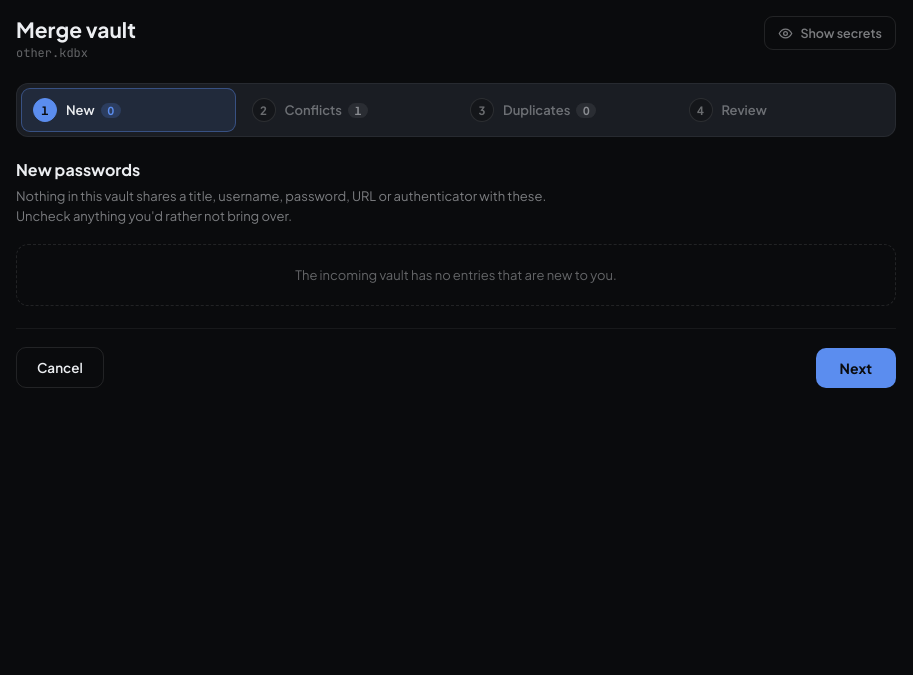
Test: MergeWizardScreen › step 2 — conflicts › says 'difference' in the singular for a single differing field
Click the button "2 Conflicts 1". click: (347, 110)
box: [240,88,454,132]
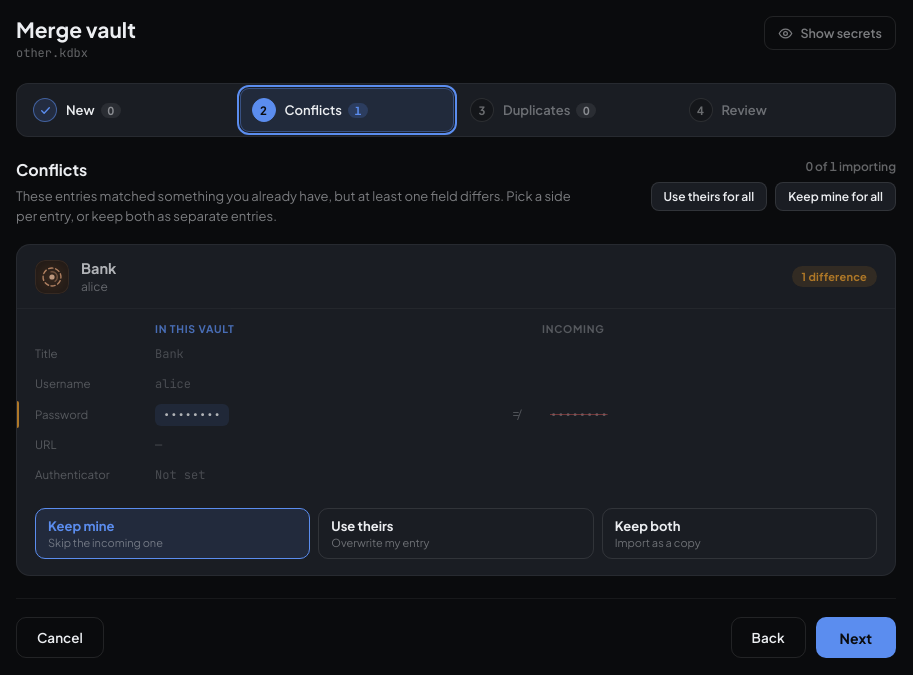
Expected: the text "1 difference" is shown, [792,266,877,287]
